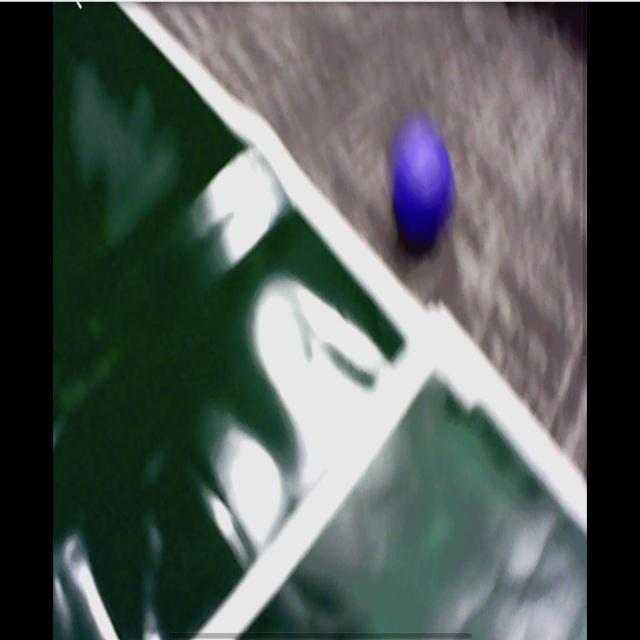ball: (392, 123, 455, 241)
